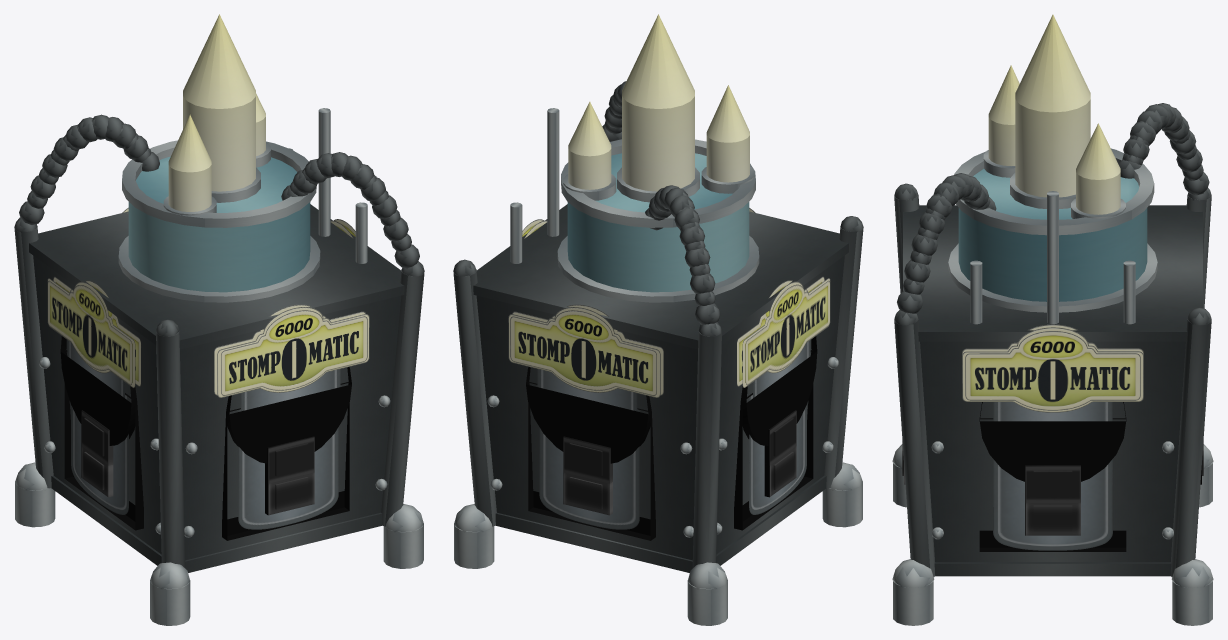
File: stomp_o_matic.obj
3 views of the same model, side by side, from view 1: azimuth 30°, elevation 25°; view 2: azimuth 150°, elevation 25°; view 3: azimuth 270°, elevation 25° (orthographic). The views are drawn at different scales.
Visible parts, largest first — view 1: dark, post, panel, steel, cyan, label, cream, vent; view 2: dark, panel, post, steel, cream, label, cyan, vent; view 3: dark, post, steel, panel, cream, cyan, label, vent.
Boxes of the visible parts, x1=… form: dark: x1=29, y1=204, x2=404, y2=572; post: x1=14, y1=114, x2=424, y2=567; panel: x1=60, y1=336, x2=351, y2=540; steel: x1=15, y1=108, x2=423, y2=625; cyan: x1=128, y1=156, x2=310, y2=292; label: x1=47, y1=280, x2=367, y2=395; cream: x1=168, y1=14, x2=265, y2=211; vent: x1=81, y1=410, x2=314, y2=515; dark: x1=473, y1=204, x2=848, y2=572; panel: x1=526, y1=336, x2=817, y2=540; post: x1=453, y1=81, x2=863, y2=567; steel: x1=454, y1=108, x2=862, y2=625; cream: x1=568, y1=14, x2=749, y2=191; label: x1=510, y1=280, x2=830, y2=395; cyan: x1=567, y1=153, x2=749, y2=292; vent: x1=563, y1=410, x2=796, y2=515; dark: x1=903, y1=205, x2=1202, y2=576; post: x1=894, y1=103, x2=1211, y2=576; steel: x1=892, y1=148, x2=1213, y2=625; panel: x1=902, y1=402, x2=1203, y2=551; cream: x1=988, y1=14, x2=1120, y2=214; cyan: x1=958, y1=169, x2=1147, y2=301; label: x1=965, y1=331, x2=1140, y2=410; vent: x1=904, y1=465, x2=1201, y2=535.
Bounding box in the file's own units: 0.92 × 1.72 × 0.92.
Materials: 12 (12 with a texture image).
